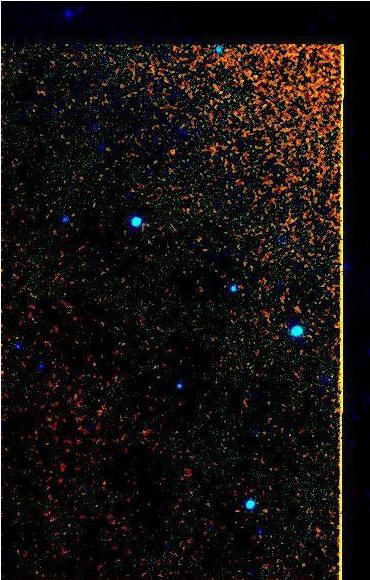star: (158, 138, 188, 168)
